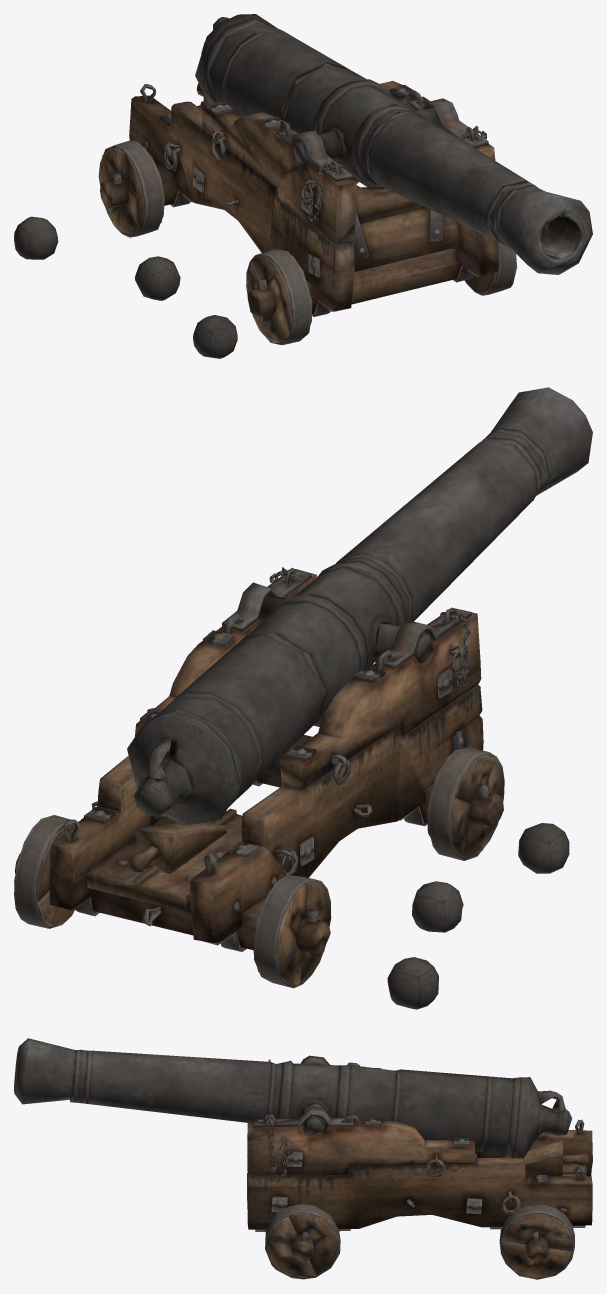
File: cannon_01.glb
3 renders of one model, top to bottom at view 1: azimuth 30°, elevation 25°; view 2: azimuth 150°, elevation 25°; view 3: azimuth 270°, elevation 25°, orthographic. The views are drawn at different scales.
Parts seen in each view (by area): view 1: cannon_01_frame, cannon_01_barrel; view 2: cannon_01_frame, cannon_01_barrel; view 3: cannon_01_frame, cannon_01_barrel.
Part boxes in pixels (x1,y1,x2,y2): cannon_01_frame: (14, 81, 516, 358); cannon_01_barrel: (195, 14, 592, 274); cannon_01_frame: (14, 567, 569, 1009); cannon_01_barrel: (127, 387, 592, 825); cannon_01_frame: (247, 1055, 592, 1279); cannon_01_barrel: (14, 1038, 572, 1158).
Size of the model in its own units: 1.27 by 0.8588 by 2.3.
Materials: 1 (1 with a texture image).
